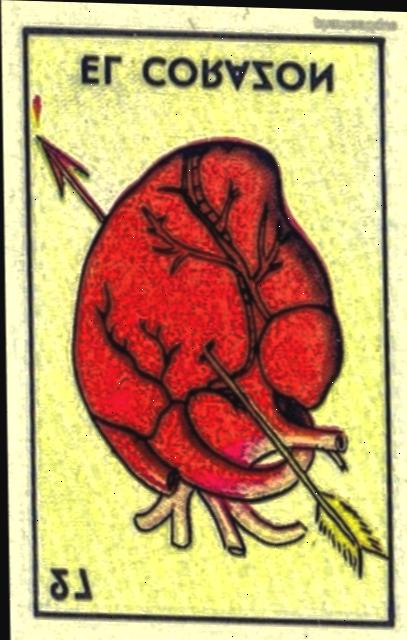El Corazon: (11, 2, 407, 640)
